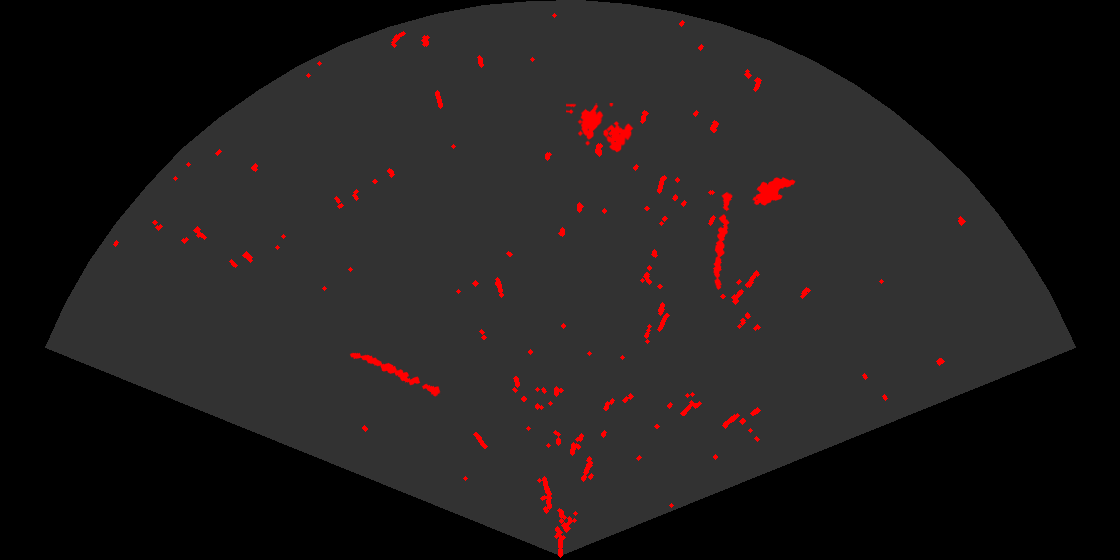AUV: (751, 176, 797, 207)
cage: (566, 103, 635, 154)
chain: (348, 351, 442, 398), (711, 190, 734, 291)
